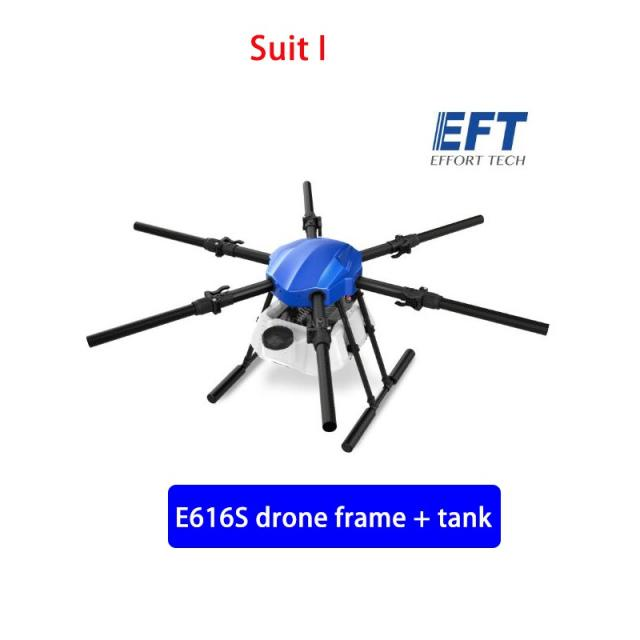drone: (106, 192, 557, 457)
